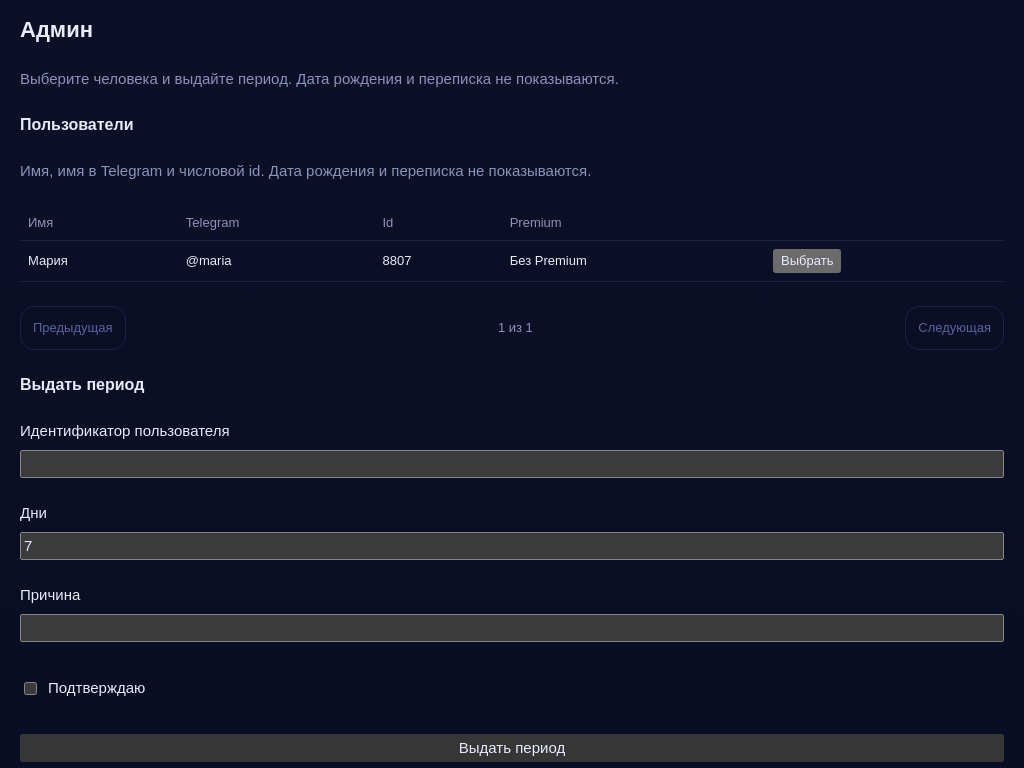
notice settings, deletion and admin › fills the premium grant from a listed person and clears it after success
Expected: the text "Мария" is shown, [20,240,178,282]
Expected: the text "@maria" is shown, [178,240,374,282]
Click the button "Выбрать": (807, 261) [773,249,842,273]
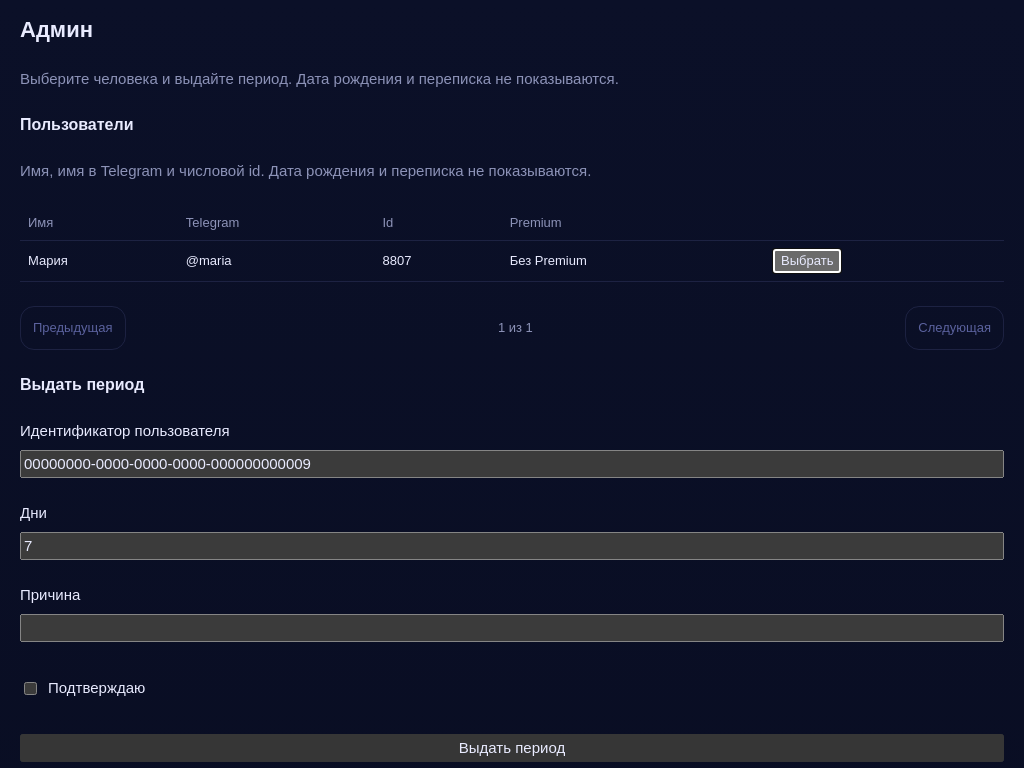
Now the field labelled "Идентификатор пользователя" holds "00000000-0000-0000-0000-000000000009", box [20,450,1004,478]
In the field labelled "Причина": (512, 628) [20,614,1004,642], type "проверка"
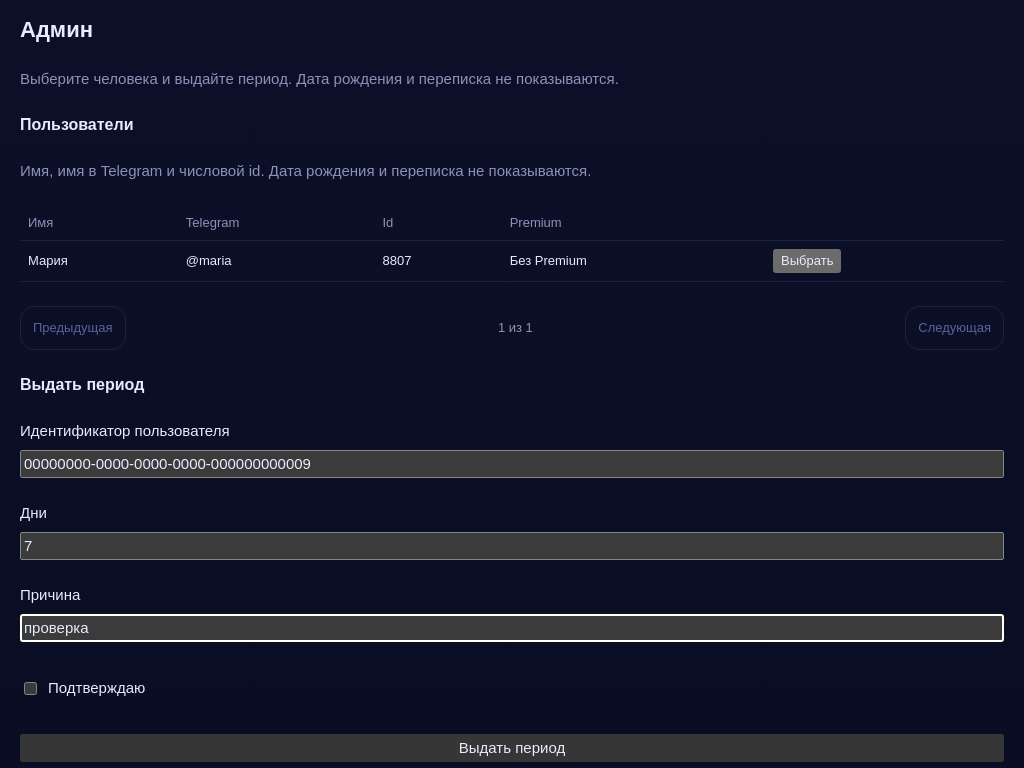
Click the checkbox labelled "Подтверждаю": (30, 688) [24,682,37,694]
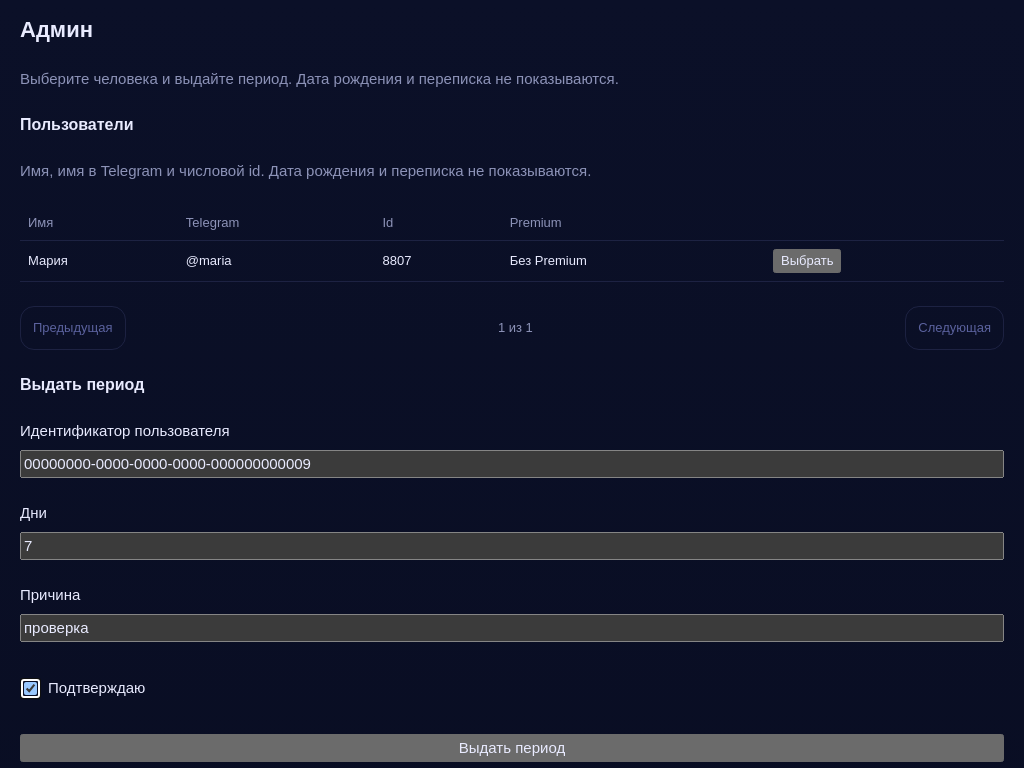
Click the button "Выдать период": (512, 748) [20,734,1004,762]
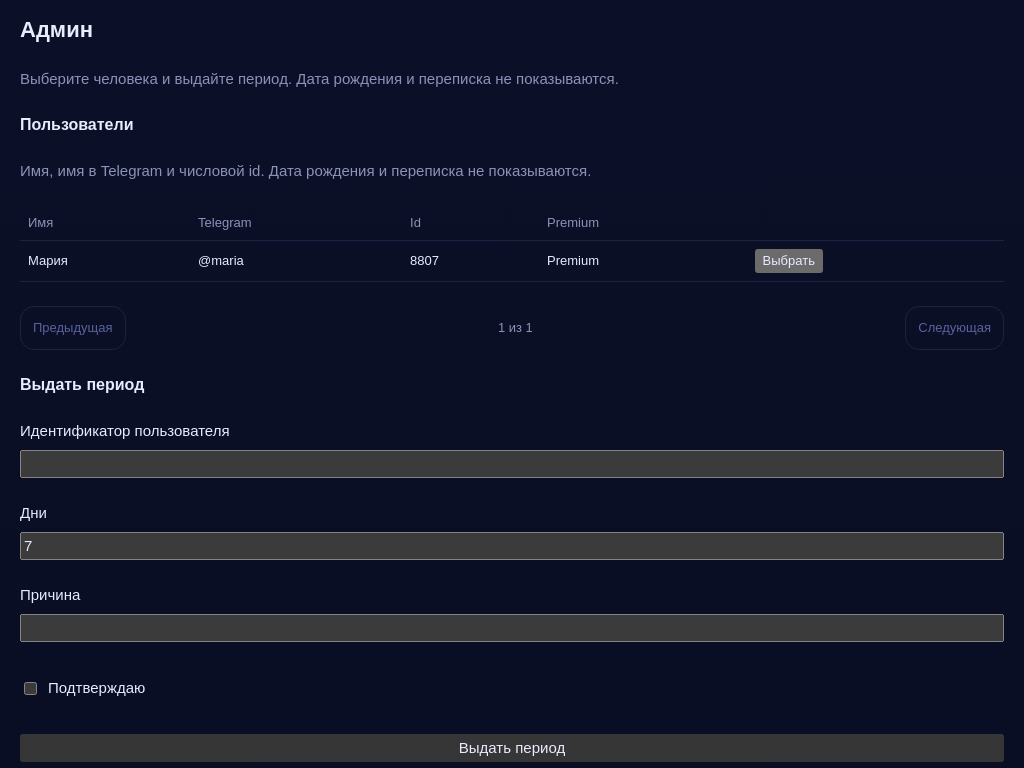
Now the text "Без Premium" is gone
Now the field labelled "Идентификатор пользователя" is empty, box [20,450,1004,478]
Now the field labelled "Причина" is empty, box [20,614,1004,642]
